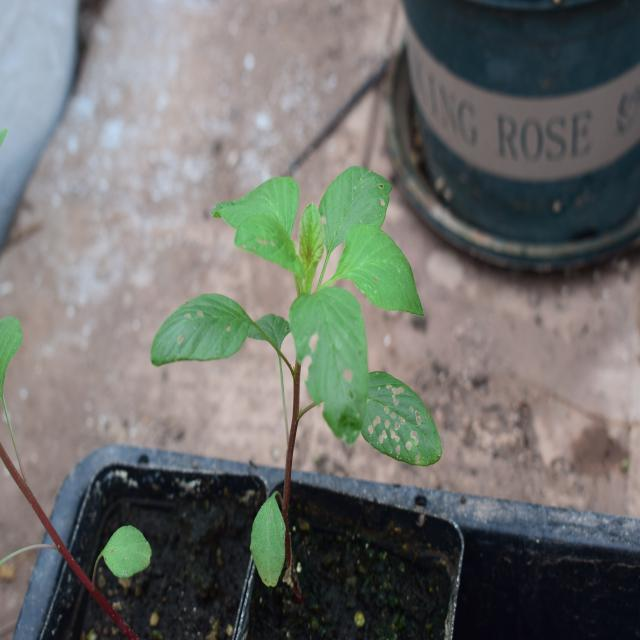pigweed: (156, 148, 429, 475)
